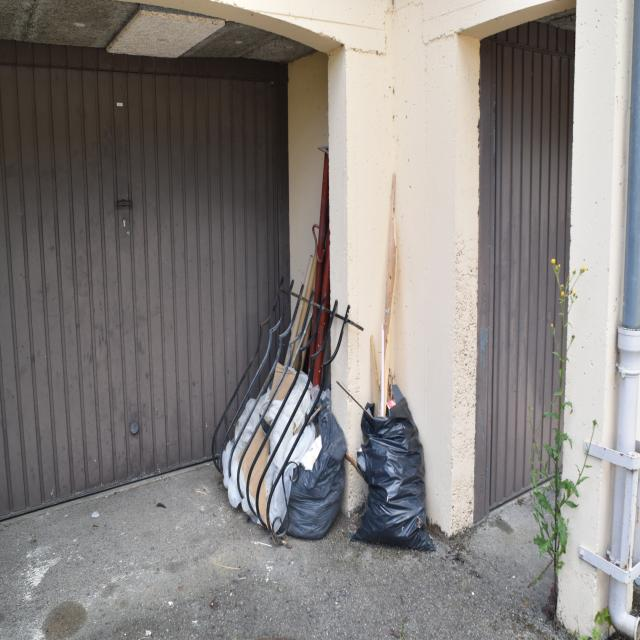entulho: (206, 274, 363, 540), (296, 139, 338, 395)
lixo domiciliar: (351, 387, 434, 550), (276, 390, 346, 540), (91, 510, 100, 518), (145, 630, 151, 637)
